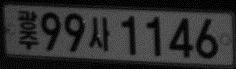1: (144, 16, 166, 56), (119, 16, 141, 55)
4: (169, 17, 193, 57)
6: (195, 18, 218, 59)
9: (63, 12, 86, 51), (40, 11, 62, 51)
광주_V: (16, 9, 39, 50)
사: (88, 16, 111, 52)
